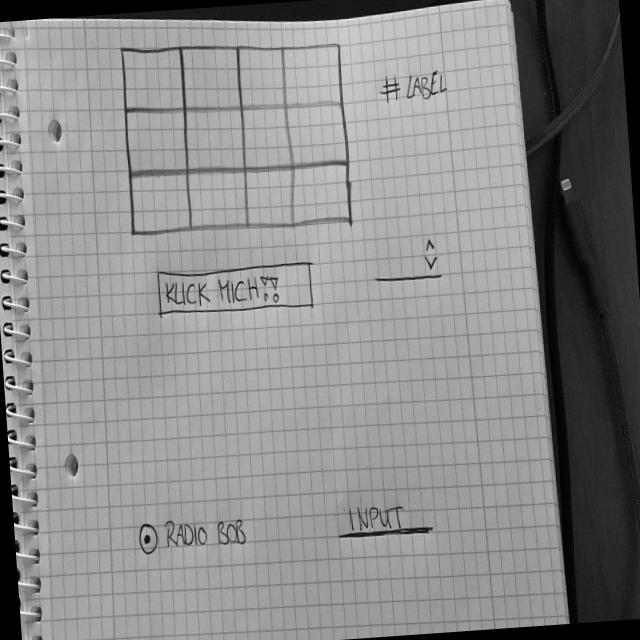button: (155, 259, 317, 323)
label: (335, 497, 438, 545), (379, 67, 452, 107)
number-input: (370, 239, 443, 287)
radio: (138, 512, 250, 560)
table: (119, 29, 358, 244)
